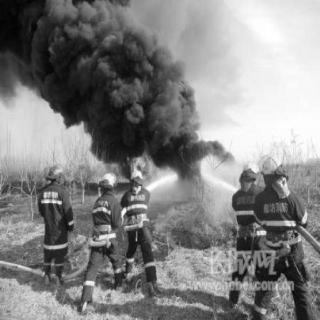Fire: (178, 164, 214, 201)
other: (42, 163, 64, 183)
